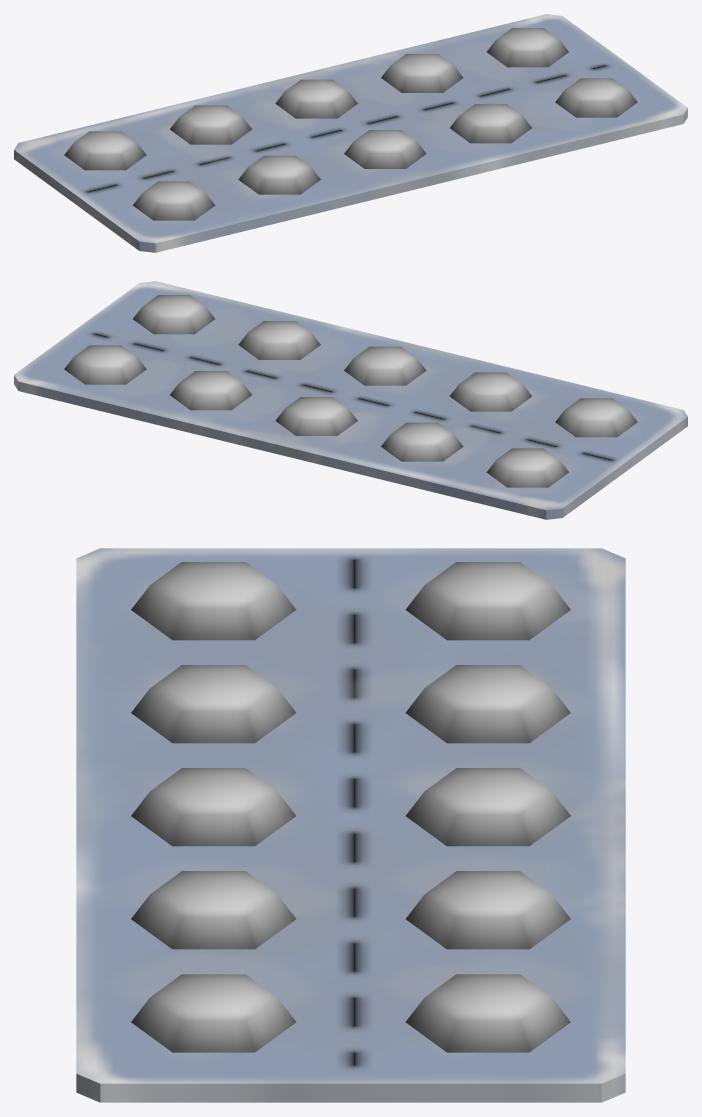
Rendered from ITEM_pill_blisterPack01.fbx.
The picture shows the model from 3 angles, top to bottom: view 1: azimuth 30°, elevation 25°; view 2: azimuth 150°, elevation 25°; view 3: azimuth 270°, elevation 25°; orthographic projection. The views are drawn at different scales.
Visible parts, largest first — view 1: ITEM_pill_blisterPack01; view 2: ITEM_pill_blisterPack01; view 3: ITEM_pill_blisterPack01.
Boxes of the visible parts, <box> form: ITEM_pill_blisterPack01: <box>14,14,687,252</box>; ITEM_pill_blisterPack01: <box>14,281,687,519</box>; ITEM_pill_blisterPack01: <box>76,548,625,1102</box>.
Bounding box in the file's own units: 0.1336 × 0.00508 × 0.0579.
